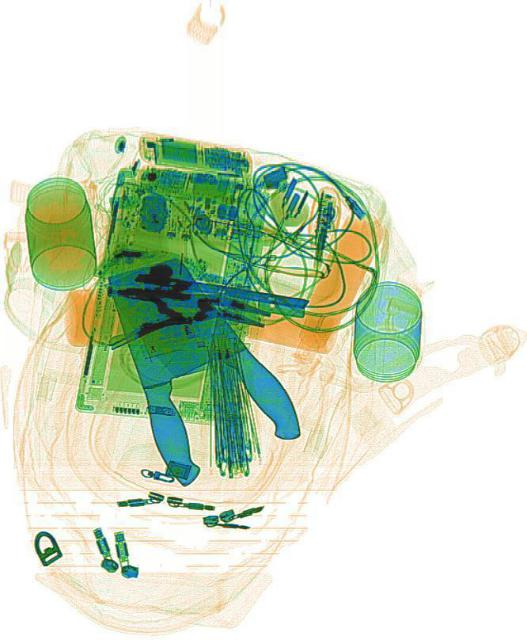Knife: (102, 234, 309, 482), (104, 253, 236, 492)
